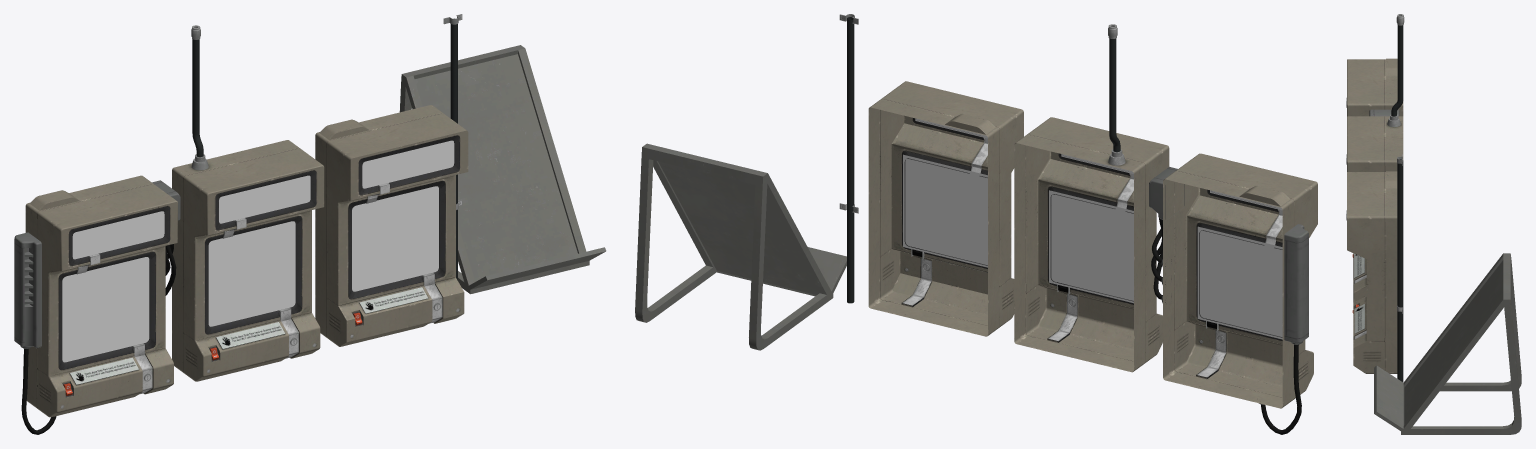
The model's file is HandScannerCH4_PKG.fbx.
3 renders of one model, left to right at view 1: azimuth 30°, elevation 25°; view 2: azimuth 150°, elevation 25°; view 3: azimuth 270°, elevation 25°, orthographic. The views are drawn at different scales.
Parts seen in each view (by area): view 1: SM_OmniHandScanner.mo, SM_HandScanner.mo, SM_HandScanner_NoWire.mo, SM_HandScanner_Stand.mo, SM_HandScanner_Wire.mo; view 2: SM_OmniHandScanner.mo, SM_HandScanner.mo, SM_HandScanner_NoWire.mo, SM_HandScanner_Stand.mo, SM_HandScanner_Wire.mo; view 3: SM_HandScanner_Stand.mo, SM_HandScanner_NoWire.mo, SM_HandScanner.mo, SM_OmniHandScanner.mo, SM_HandScanner_Wire.mo.
Part boxes in pixels (left/top/right/bottom): SM_OmniHandScanner.mo: left=14, top=175, right=180, bottom=434; SM_HandScanner.mo: left=172, top=25, right=324, bottom=381; SM_HandScanner_NoWire.mo: left=315, top=105, right=468, bottom=346; SM_HandScanner_Stand.mo: left=399, top=45, right=606, bottom=294; SM_HandScanner_Wire.mo: left=443, top=14, right=462, bottom=280; SM_OmniHandScanner.mo: left=1149, top=153, right=1317, bottom=434; SM_HandScanner.mo: left=1014, top=24, right=1169, bottom=372; SM_HandScanner_NoWire.mo: left=868, top=81, right=1023, bottom=336; SM_HandScanner_Stand.mo: left=635, top=143, right=846, bottom=350; SM_HandScanner_Wire.mo: left=839, top=14, right=858, bottom=303; SM_HandScanner_Stand.mo: left=1374, top=253, right=1521, bottom=434; SM_HandScanner_NoWire.mo: left=1346, top=171, right=1397, bottom=373; SM_HandScanner.mo: left=1346, top=14, right=1404, bottom=302; SM_OmniHandScanner.mo: left=1346, top=58, right=1403, bottom=116; SM_HandScanner_Wire.mo: left=1397, top=154, right=1403, bottom=381.
Bounding box in the file's own units: 208 × 125 × 68.53.
